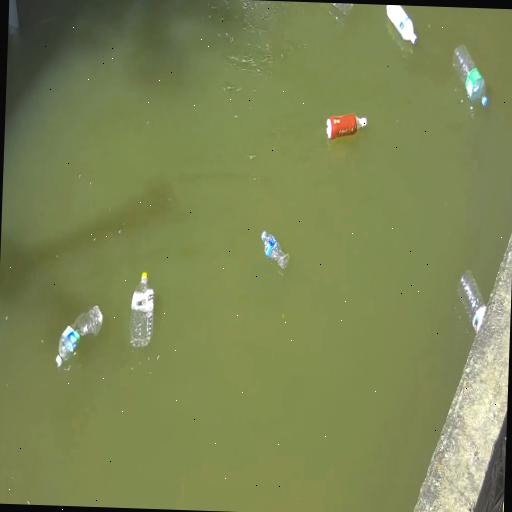plastic: (56, 306, 102, 367), (453, 45, 488, 106), (129, 272, 154, 351), (458, 271, 486, 333), (387, 5, 417, 44), (261, 231, 290, 269), (327, 115, 366, 140), (328, 2, 356, 16)
